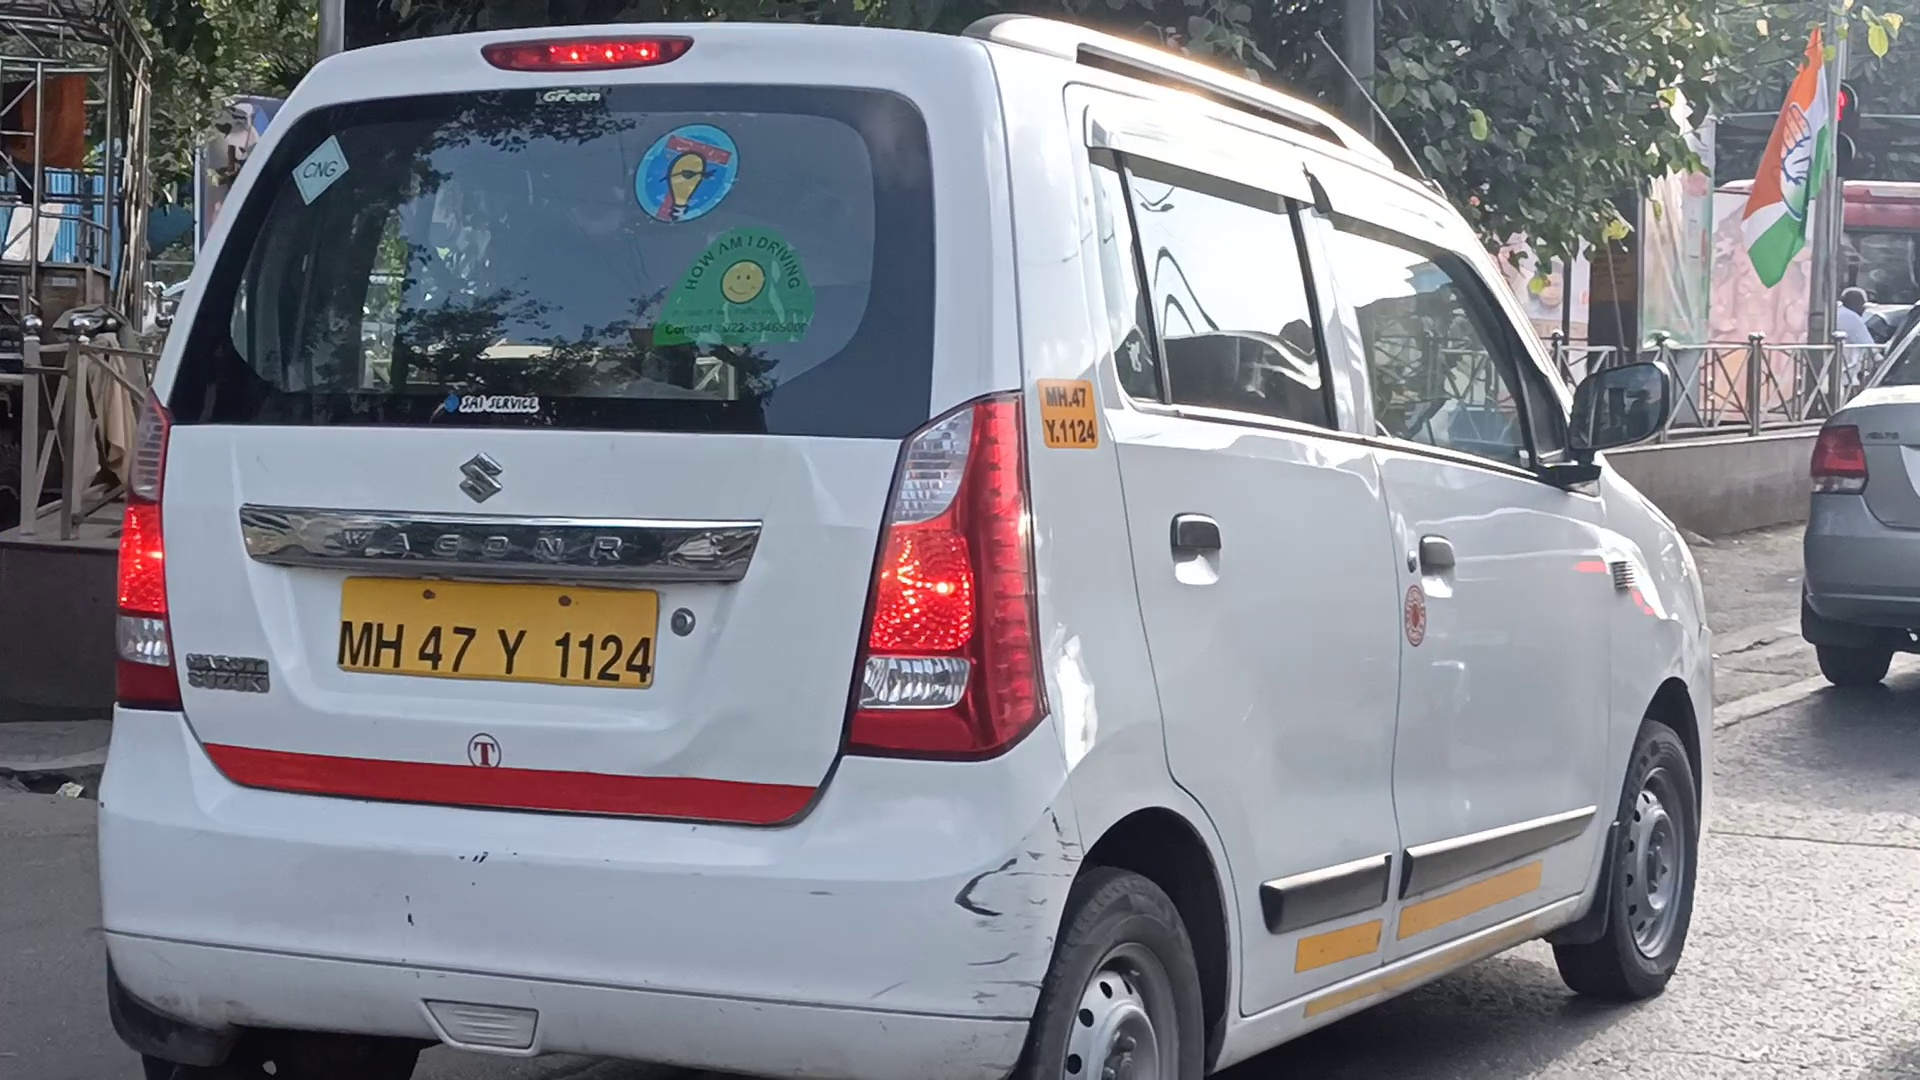MH47Y1124: (338, 573, 660, 691)
